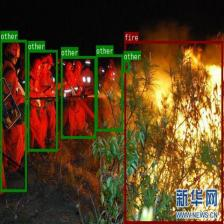fire: (124, 40, 223, 223)
